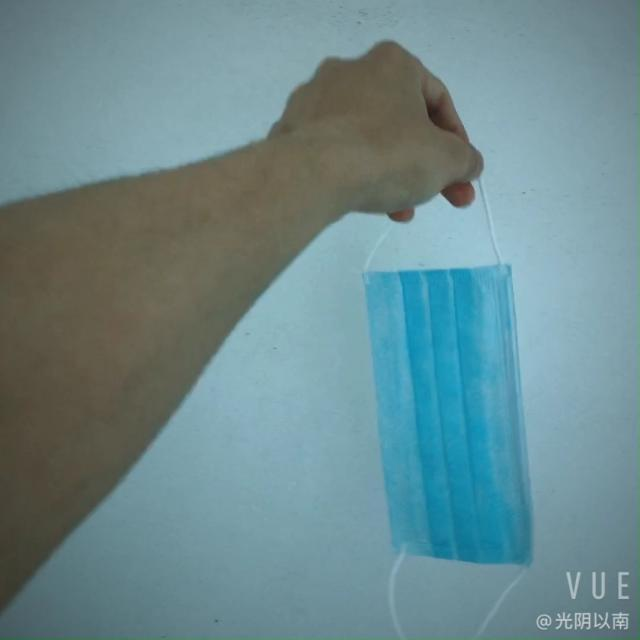face mask: (366, 250, 558, 580)
